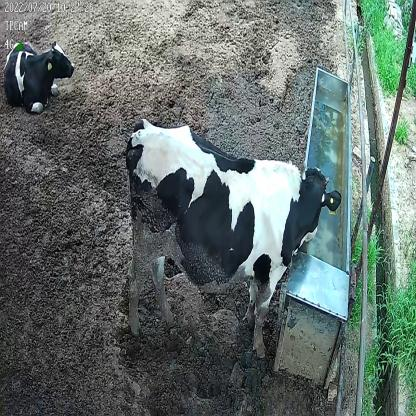cow: (124, 118, 341, 364), (3, 36, 76, 115)
